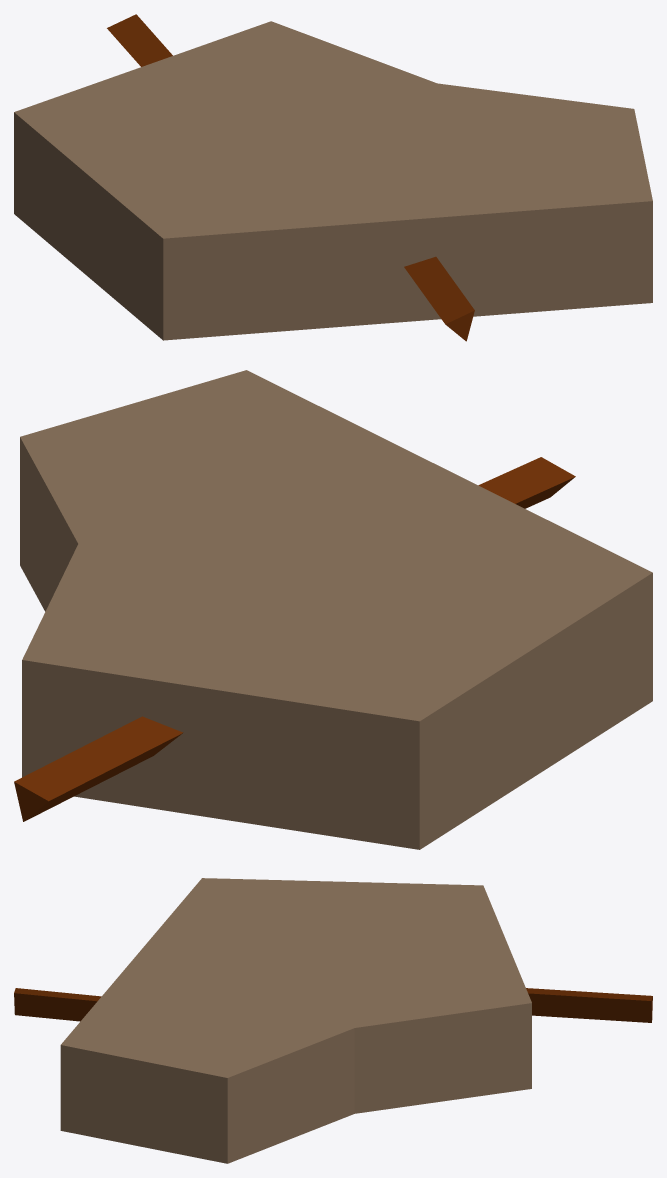
The model's file is LP_PostApoc_Rubble5.fbx.
3 renders of one model, top to bottom at view 1: azimuth 30°, elevation 25°; view 2: azimuth 150°, elevation 25°; view 3: azimuth 270°, elevation 25°, orthographic. The views are drawn at different scales.
Visible parts, largest first — view 1: Rubble5; view 2: Rubble5; view 3: Rubble5.
Boxes of the visible parts, left/top/right/bottom form: Rubble5: left=14, top=14, right=652, bottom=341; Rubble5: left=14, top=370, right=652, bottom=849; Rubble5: left=14, top=878, right=652, bottom=1163.
Size of the model in its own units: 88.3 by 17.67 by 119.
